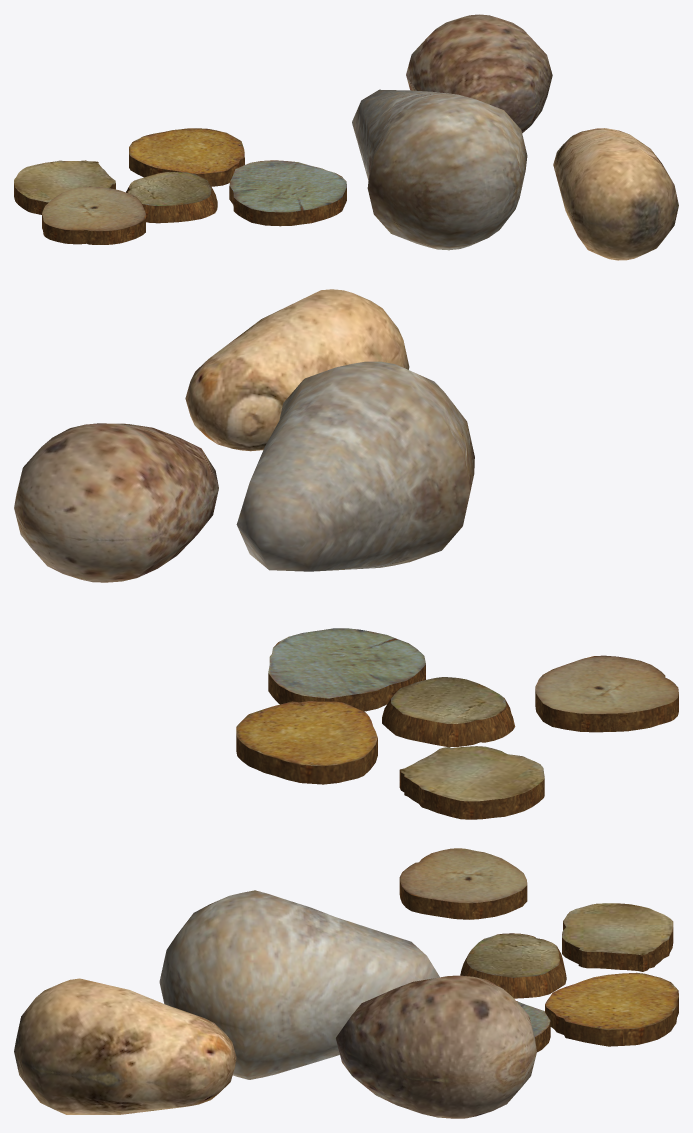
The model's file is zexie.FBX.
3 renders of one model, top to bottom at view 1: azimuth 30°, elevation 25°; view 2: azimuth 150°, elevation 25°; view 3: azimuth 270°, elevation 25°, orthographic. The views are drawn at different scales.
Parts seen in each view (by area): view 1: Sphere002, Sphere003, Sphere001, Line004, Line001, Line005, Line002, Line003; view 2: Sphere002, Sphere001, Sphere003, Line004, Line005, Line001, Line003, Line002; view 3: Sphere002, Sphere003, Sphere001, Line005, Line001, Line003, Line002, Line004.
Part boxes in pixels (<box>): Sphere002: <box>352,89,527,250</box>; Sphere003: <box>553,128,678,260</box>; Sphere001: <box>406,14,552,133</box>; Line004: <box>229,160,346,226</box>; Line001: <box>42,186,145,244</box>; Line005: <box>129,128,244,186</box>; Line002: <box>126,172,217,223</box>; Line003: <box>14,160,115,214</box>; Sphere002: <box>236,361,474,571</box>; Sphere001: <box>14,423,218,582</box>; Sphere003: <box>185,289,409,451</box>; Line004: <box>268,628,425,711</box>; Line005: <box>236,701,377,784</box>; Line001: <box>535,655,678,732</box>; Line003: <box>399,746,544,819</box>; Line002: <box>382,677,515,746</box>; Sphere002: <box>159,890,439,1079</box>; Sphere003: <box>14,978,236,1114</box>; Sphere001: <box>336,975,536,1118</box>; Line005: <box>545,972,678,1046</box>; Line001: <box>399,848,527,919</box>; Line003: <box>562,903,673,971</box>; Line002: <box>460,933,566,998</box>; Line004: <box>516,1001,550,1052</box>.
Size of the model in its own units: 409 by 119 by 404.
2 materials, 2 textured.
